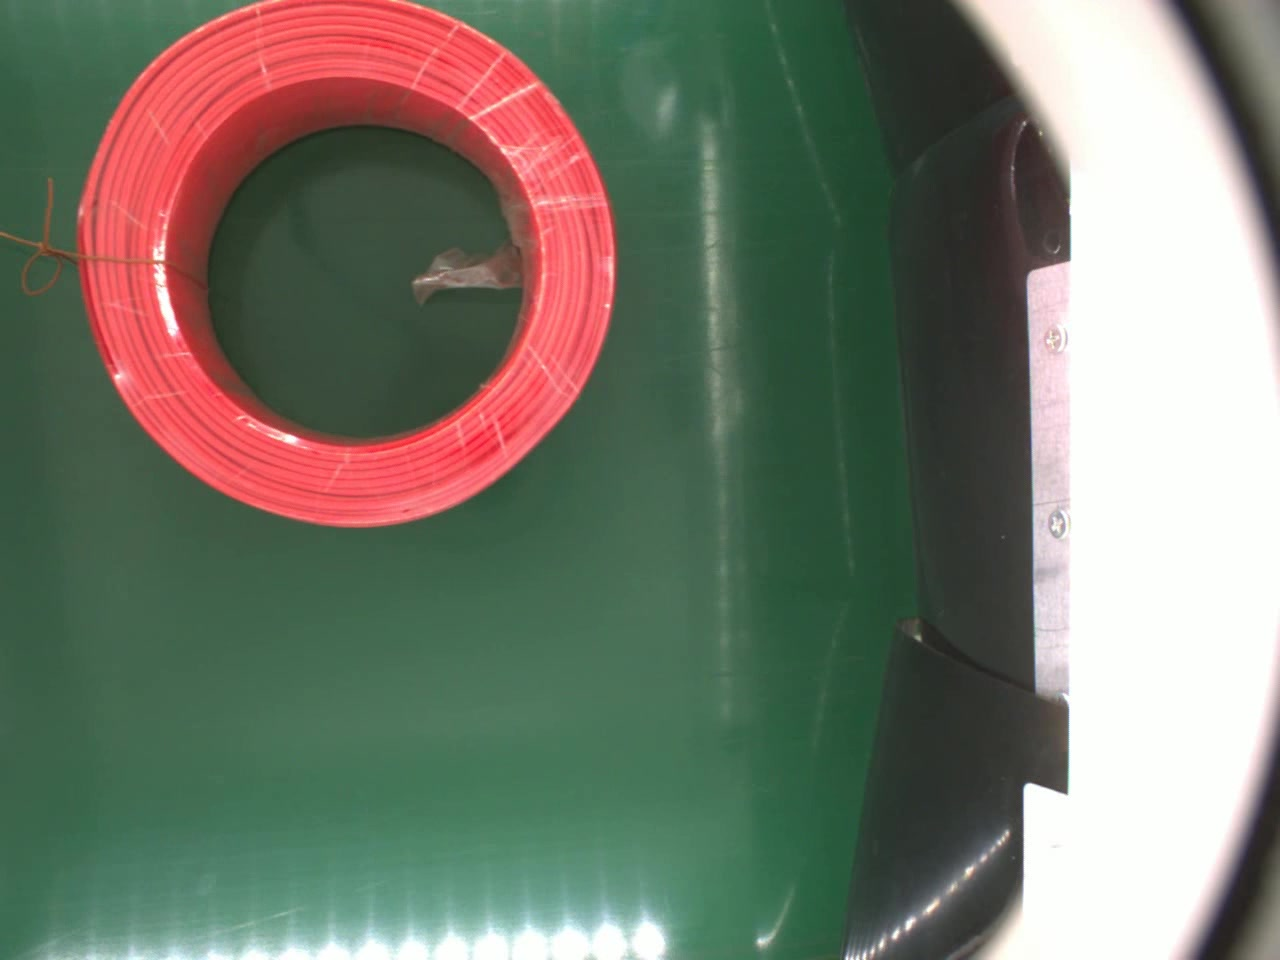red: (73, 1, 623, 531)
